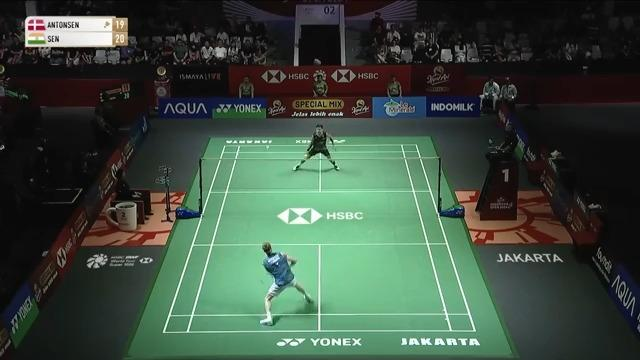Shuttlecock: (264, 144, 272, 150)
